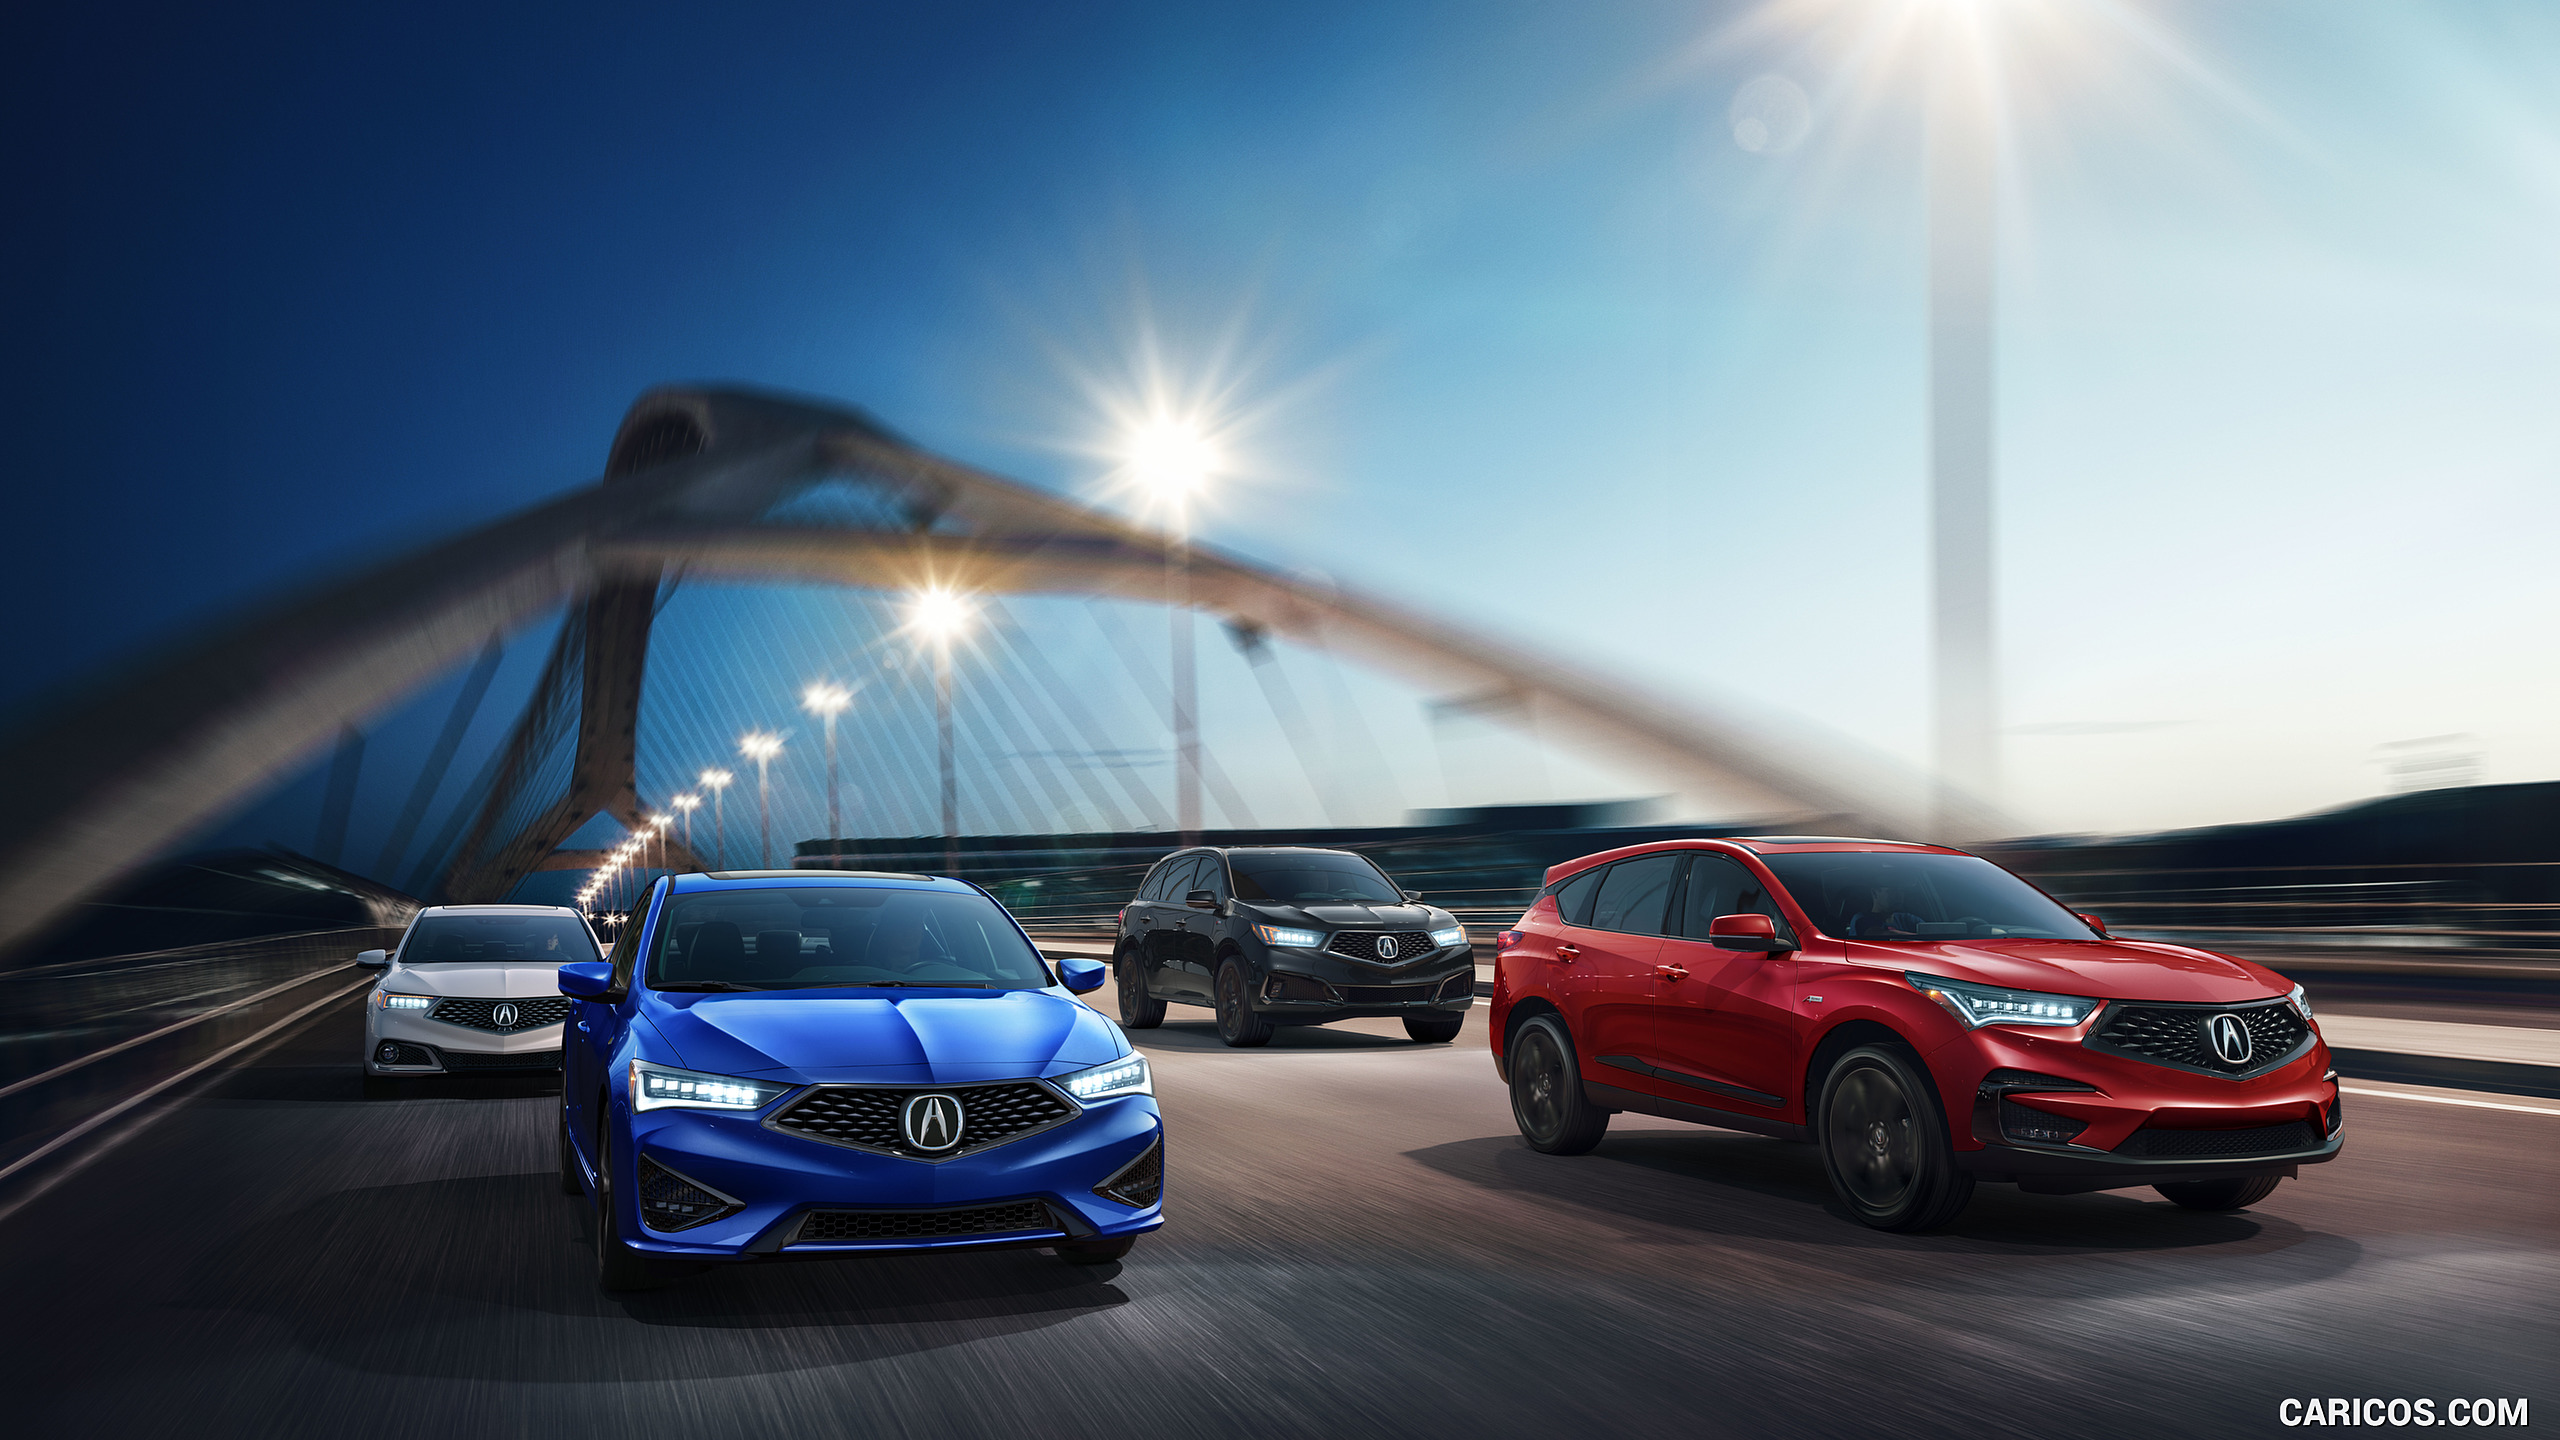Fog Lamp & Scope: (644, 1176, 726, 1231)
Front: (621, 1018, 1167, 1248)
Front Bumper: (617, 1152, 1176, 1245)
Grill: (800, 1099, 1057, 1152)
Headlight: (631, 1078, 765, 1115)
